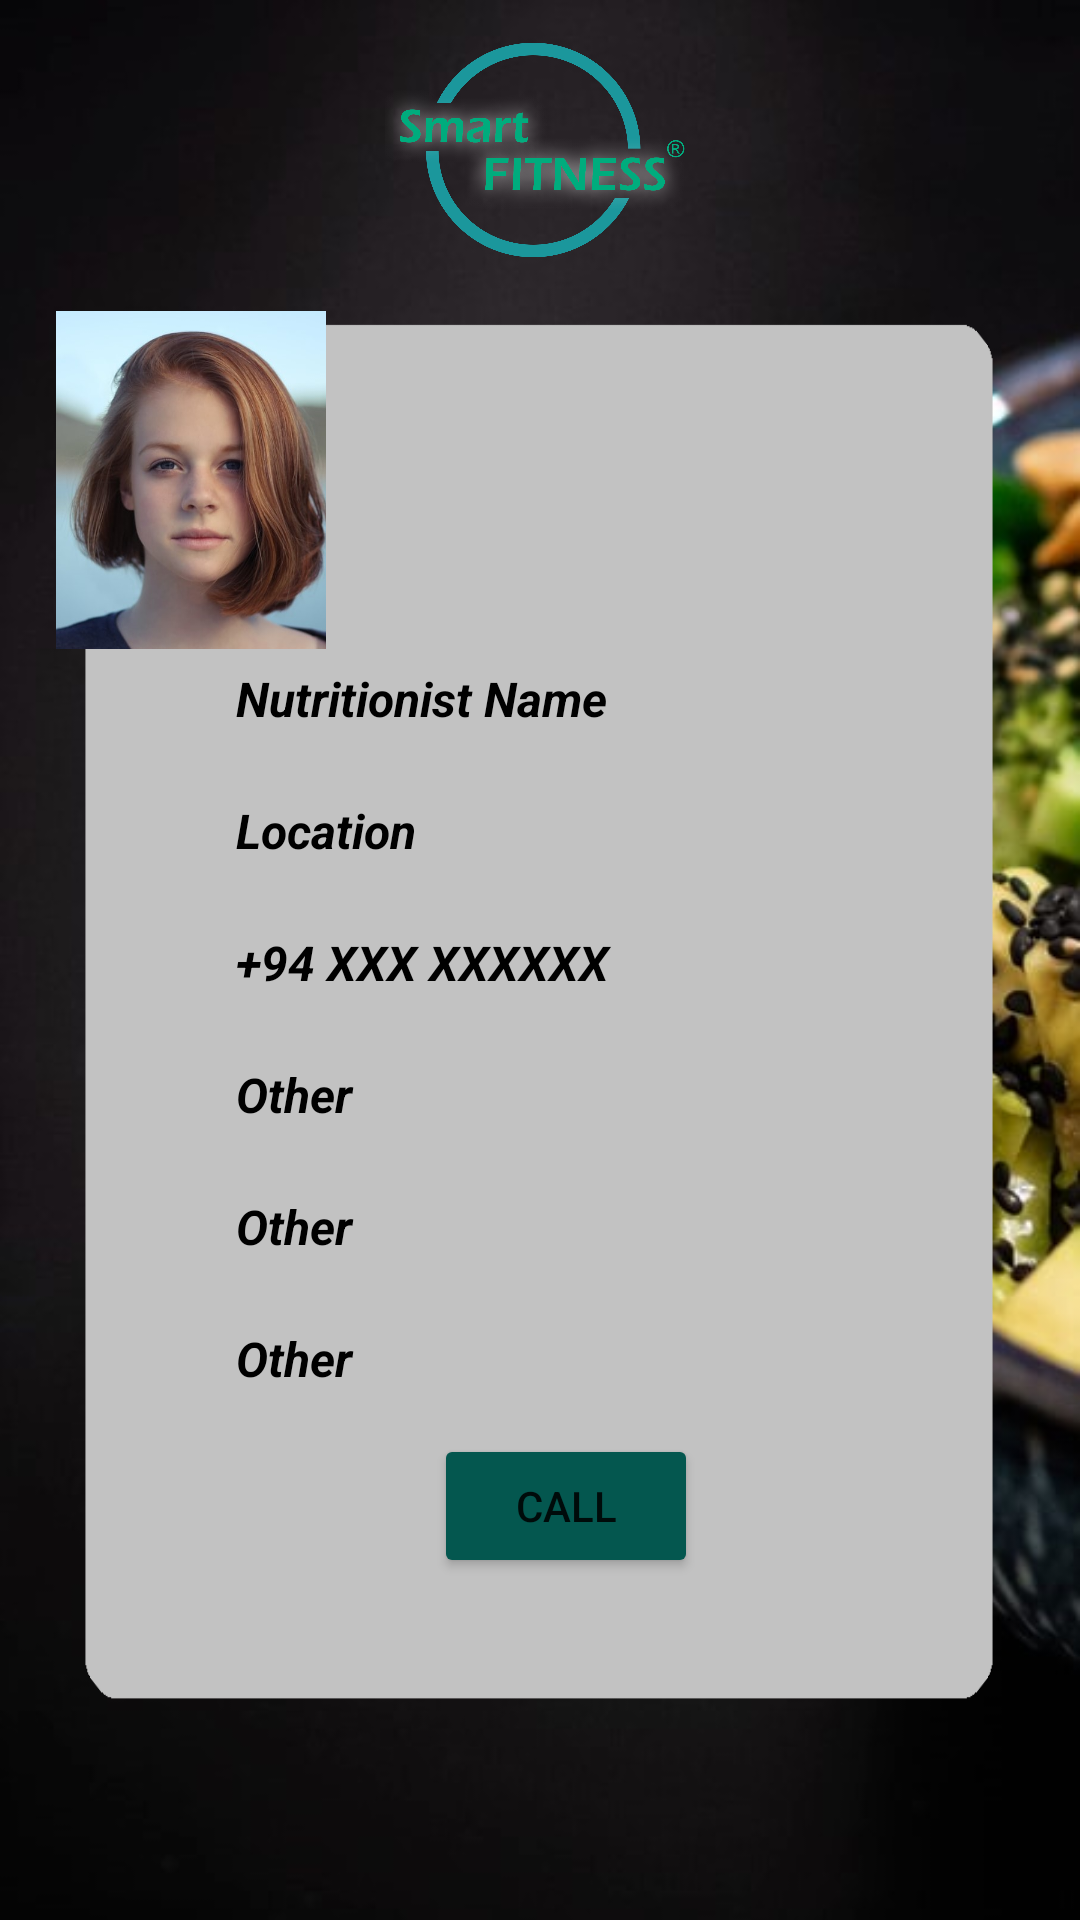

Screen size 1080*1920. Icon name, then its center in pixels as (x,y):
person: (191,480)
